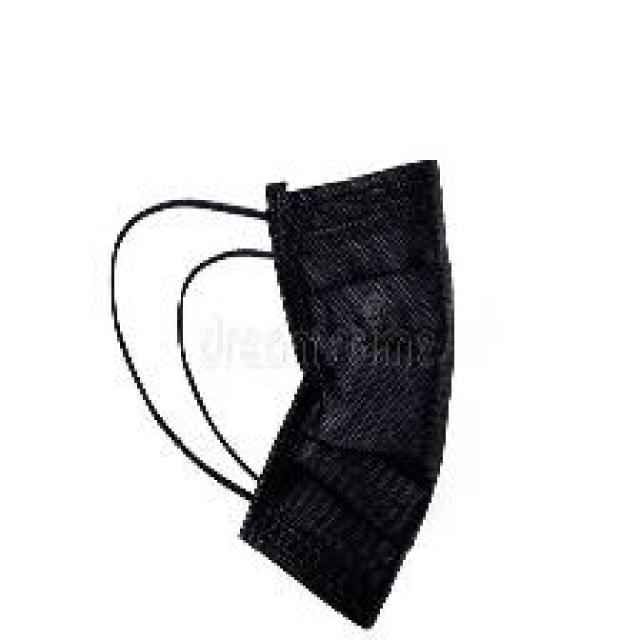Mask: (88, 148, 468, 627)
